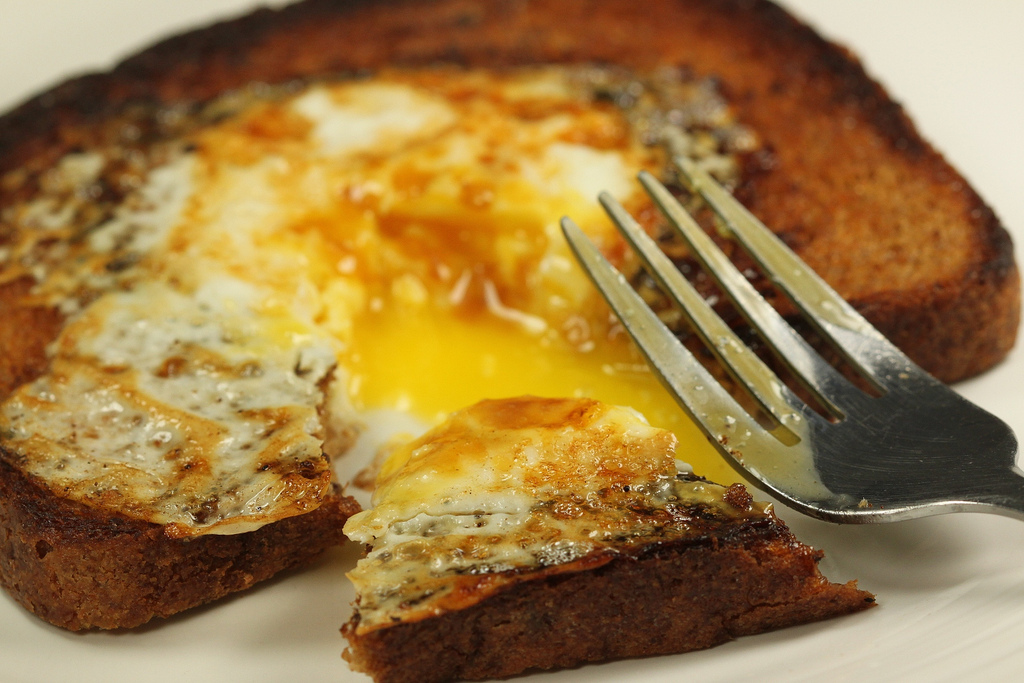fried egg: (66, 86, 750, 504)
slice of bread: (8, 1, 1011, 619)
